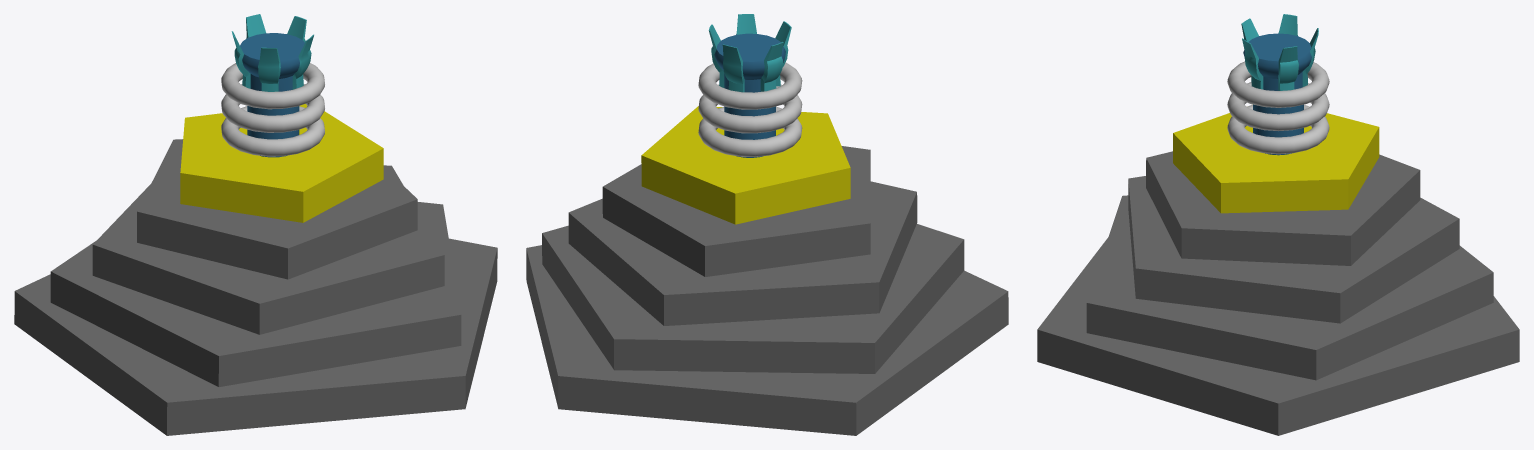
The model's file is boostElec.fbx.
3 views of the same model, side by side, from view 1: azimuth 30°, elevation 25°; view 2: azimuth 150°, elevation 25°; view 3: azimuth 270°, elevation 25° (orthographic). The views are drawn at different scales.
Parts seen in each view (by area): view 1: polySurface2, polySurface3, polySurface4, polySurface5, polySurface6, polySurface7, pTorus3, pTorus1, pTorus2; view 2: polySurface2, polySurface3, polySurface4, polySurface5, polySurface6, polySurface7, pTorus3, pTorus1, pTorus2; view 3: polySurface2, polySurface3, polySurface4, polySurface5, polySurface6, polySurface7, pTorus3, pTorus1, pTorus2.
Boxes of the visible parts, <box> form: polySurface2: <box>14,238,497,435</box>; polySurface3: <box>50,202,461,386</box>; polySurface4: <box>92,165,444,334</box>; polySurface5: <box>137,139,417,279</box>; polySurface6: <box>180,104,383,222</box>; polySurface7: <box>231,14,313,157</box>; pTorus3: <box>221,63,324,109</box>; pTorus1: <box>221,106,324,156</box>; pTorus2: <box>221,84,324,132</box>; polySurface2: <box>526,245,1008,435</box>; polySurface3: <box>542,224,964,373</box>; polySurface4: <box>568,181,917,325</box>; polySurface5: <box>602,146,870,276</box>; polySurface6: <box>641,106,850,224</box>; polySurface7: <box>708,14,791,157</box>; pTorus3: <box>698,62,802,109</box>; pTorus1: <box>698,106,802,156</box>; pTorus2: <box>698,84,802,133</box>; polySurface2: <box>1037,237,1519,435</box>; polySurface3: <box>1086,195,1493,380</box>; polySurface4: <box>1128,176,1459,323</box>; polySurface5: <box>1146,151,1420,265</box>; polySurface6: <box>1173,113,1379,213</box>; polySurface7: <box>1241,14,1318,155</box>; pTorus3: <box>1227,61,1329,107</box>; pTorus1: <box>1227,105,1329,154</box>; pTorus2: <box>1227,82,1329,130</box>.
Size of the model in its own units: 2.69 by 1.93 by 2.83.
